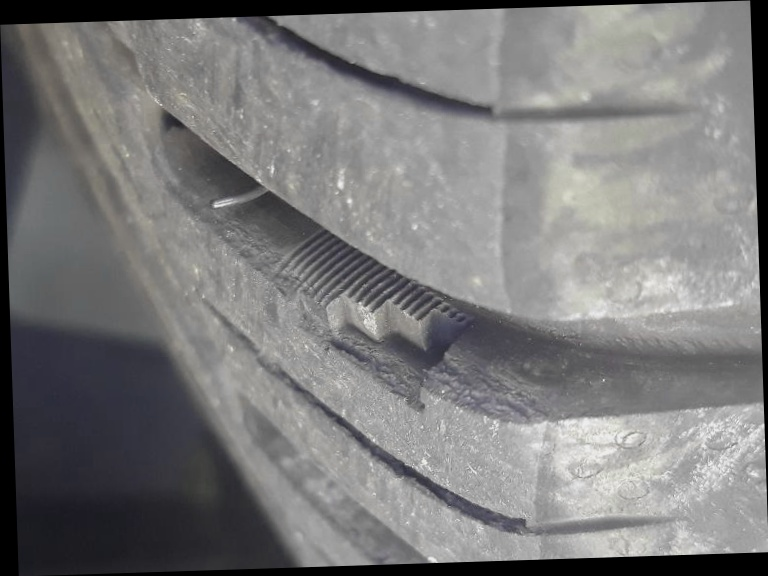temoin:80: (256, 217, 490, 429)
